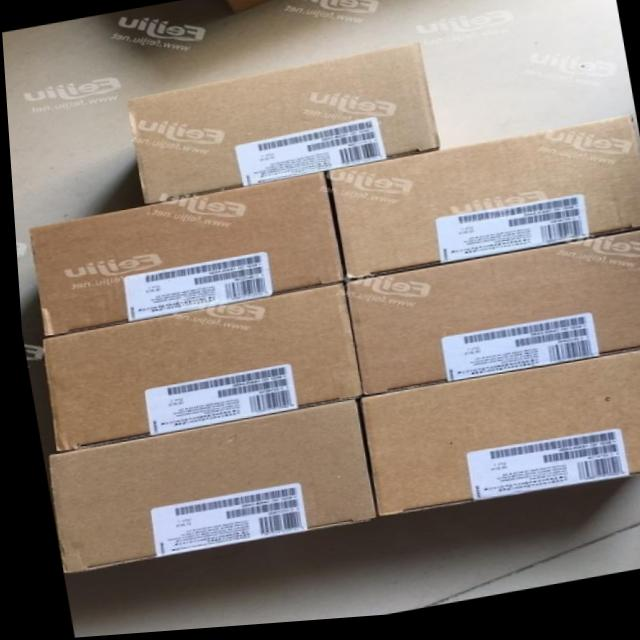box: (37, 404, 369, 575), (37, 285, 358, 451), (321, 122, 640, 285), (19, 176, 340, 337), (120, 49, 443, 206), (347, 358, 640, 522), (342, 237, 640, 398), (223, 0, 271, 16)
